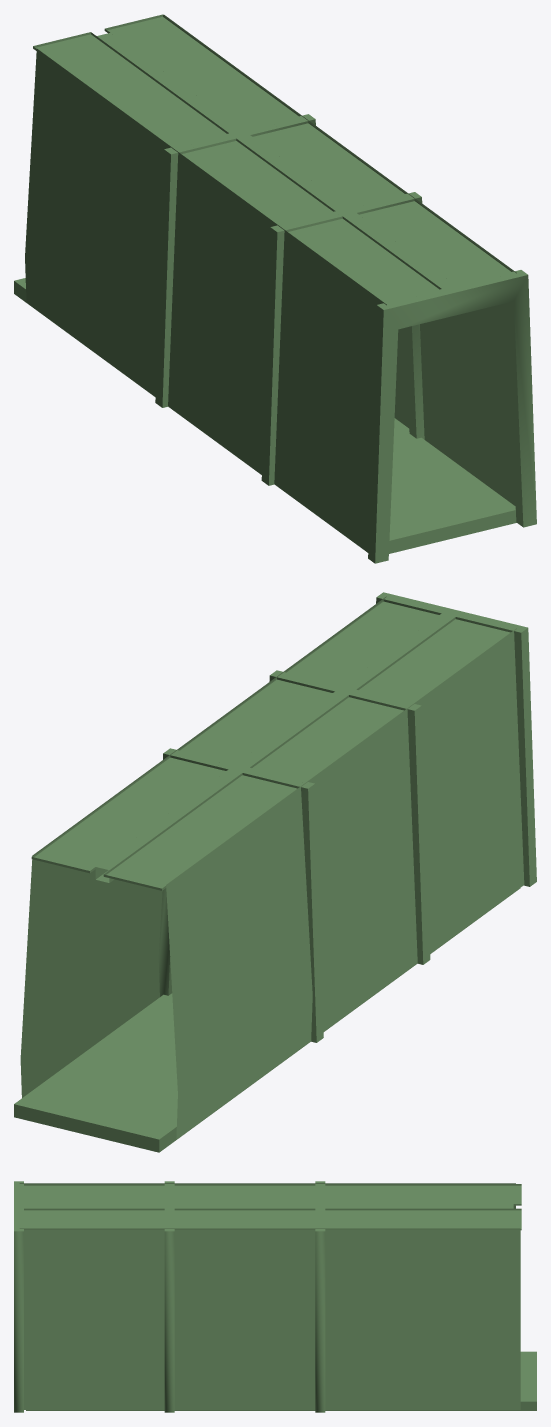
Rendered from Gallery1.fbx.
The picture shows the model from 3 angles, top to bottom: view 1: azimuth 30°, elevation 25°; view 2: azimuth 150°, elevation 25°; view 3: azimuth 270°, elevation 25°; orthographic projection. The views are drawn at different scales.
Parts seen in each view (by area): view 1: Concrete_Bare1, celling1, Concrete_Simple1, pCube8; view 2: Concrete_Bare1, celling1, Concrete_Simple1, pCube8; view 3: Concrete_Bare1, celling1, Concrete_Simple1, pCube8.
Part boxes in pixels (box(x1,y1,x2,y2)): Concrete_Bare1: box(25, 14, 516, 551); celling1: box(33, 14, 512, 302); Concrete_Simple1: box(96, 33, 536, 563); pCube8: box(14, 278, 516, 553); Concrete_Bare1: box(20, 596, 524, 1139); celling1: box(31, 600, 510, 890); Concrete_Simple1: box(95, 592, 536, 1042); pCube8: box(14, 888, 520, 1152); Concrete_Bare1: box(19, 1183, 520, 1409); celling1: box(24, 1184, 521, 1230); Concrete_Simple1: box(14, 1181, 513, 1412); pCube8: box(26, 1351, 536, 1410).
Size of the model in its own units: 93.48 by 140 by 369.
